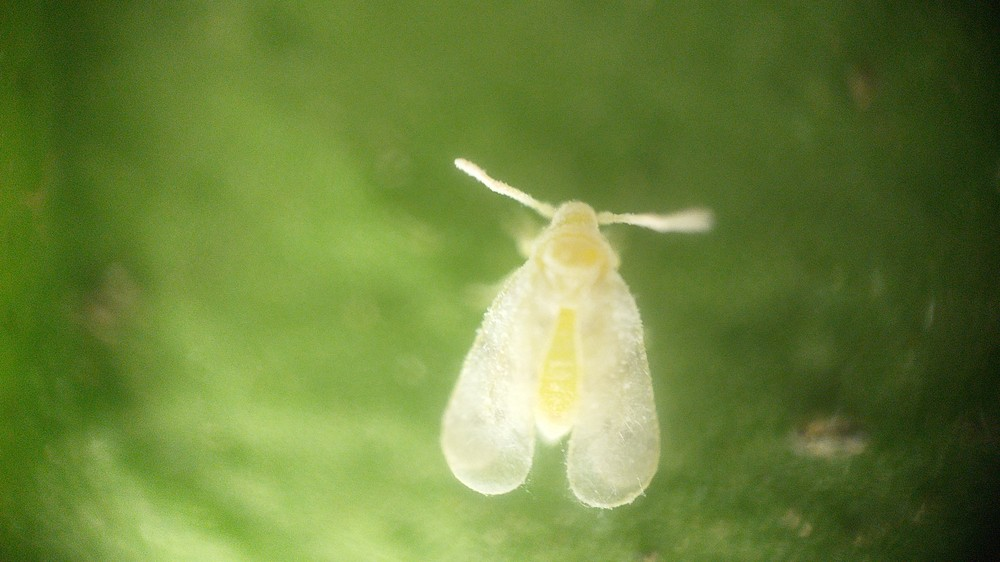Mosca Blanca: (421, 149, 729, 510)
